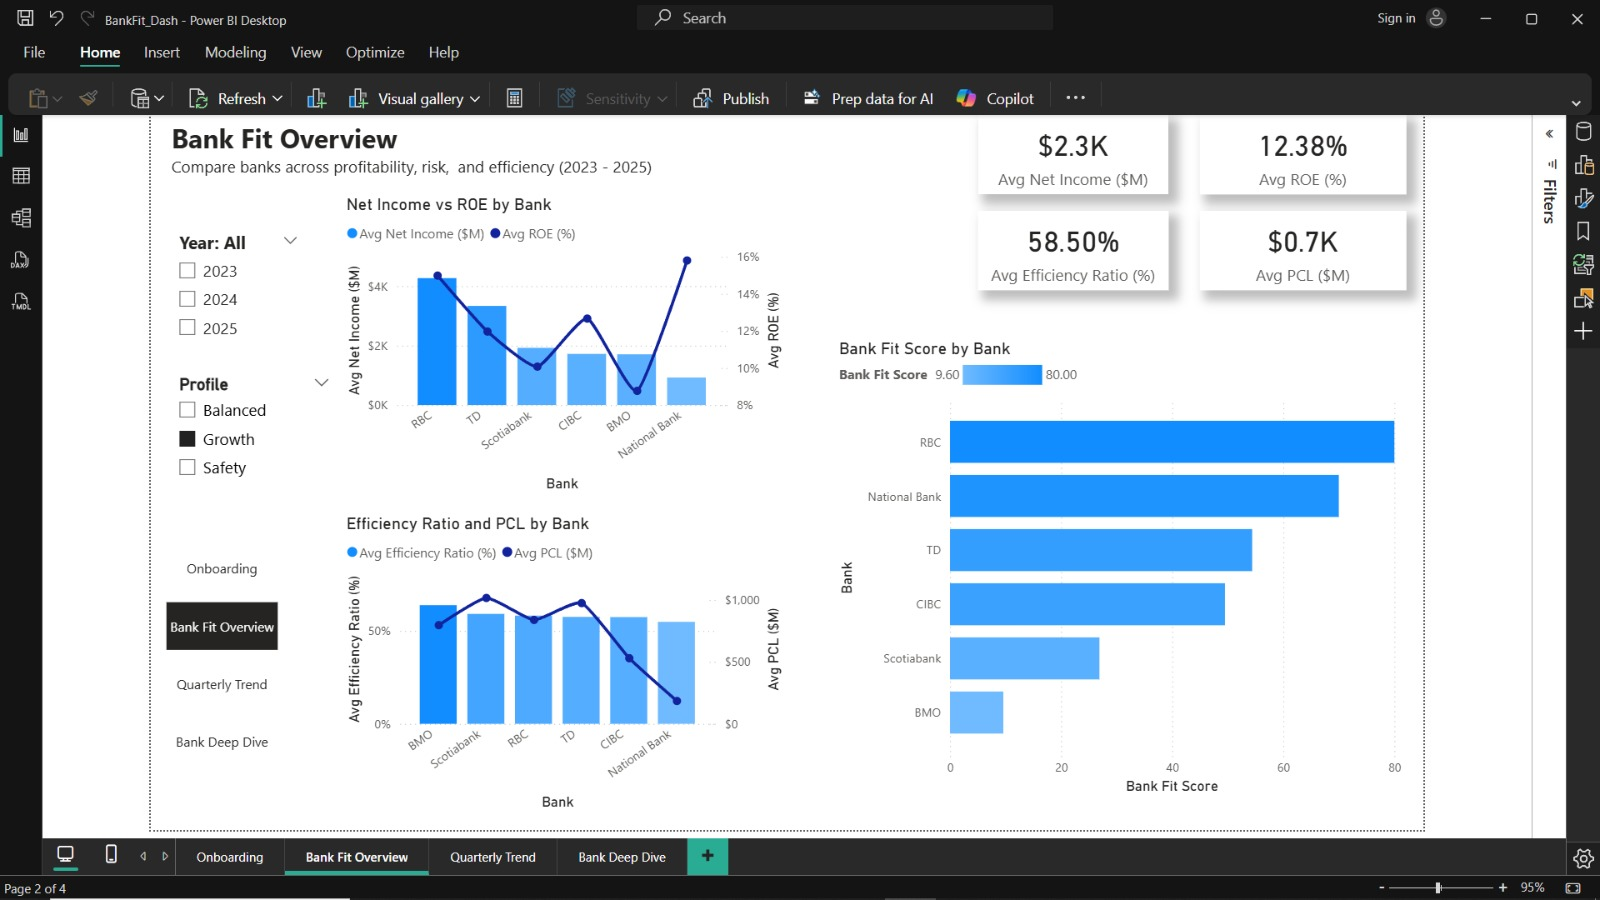

The page's visual inventory and layout, read from the dashboard file:
{"tool":"powerbi","page":{"name":"Bank Fit Overview","canvas":[1280,720],"ordinal":1},"visuals":[{"type":"textbox","box":[16,0,512,80],"z":0},{"type":"slicer","fields":{"Values":["Fact_BankQuarterly.QuarterStartDate.Variation.Date Hierarchy.Year"]},"box":[16,112,144,128],"z":1000,"group":"g1"},{"type":"slicer","fields":{"Values":["BankFitProfiles.Profile"]},"box":[16,256,176,128],"z":2000,"group":"g1"},{"type":"card","fields":{"Values":["Fact_BankQuarterly.Avg Net Income ($M)"]},"box":[832,0,192,80],"z":3000},{"type":"card","fields":{"Values":["Fact_BankQuarterly.Avg ROE (%)"]},"box":[1056,0,208,80],"z":4000},{"type":"card","fields":{"Values":["Fact_BankQuarterly.Avg Efficiency Ratio (%)"]},"box":[832,96,192,80],"z":5000},{"type":"card","fields":{"Values":["Fact_BankQuarterly.Avg PCL ($M)"]},"box":[1056,96,208,80],"z":6000},{"type":"lineClusteredColumnComboChart","title":"Net Income vs ROE by Bank","fields":{"Y":["Fact_BankQuarterly.Avg Net Income ($M)"],"Y2":["Fact_BankQuarterly.Avg ROE (%)"],"Category":["DimBank.Bank"]},"box":[192,80,448,304],"z":7000},{"type":"lineClusteredColumnComboChart","title":"Efficiency Ratio and PCL by Bank","fields":{"Y":["Fact_BankQuarterly.Avg Efficiency Ratio (%)"],"Y2":["Fact_BankQuarterly.Avg PCL ($M)"],"Category":["DimBank.Bank"]},"box":[192,400,448,304],"z":8000},{"type":"barChart","fields":{"Y":["BankFitProfiles.BankFit Score"],"Category":["DimBank.Bank"]},"box":[688,224,576,464],"z":9000},{"type":"pageNavigator","box":[16,432,112,224],"z":11000,"group":"g1"},{"type":"group","id":"g1","title":"Group 1","box":[16,112,176,544],"z":11001}]}

Visuals, with their boxes on the page's 1280x720 design canvas (x1, y1, x2, y2). These are canvas units, not pixel positions in the 1600x900 screenshot, which may show the page scaled, cropped or inside an application window:
textbox: Rect(16, 0, 528, 80)
slicer - Fact_BankQuarterly.QuarterStartDate.Variation.Date Hierarchy.Year: Rect(16, 112, 160, 240)
slicer - BankFitProfiles.Profile: Rect(16, 256, 192, 384)
card - Fact_BankQuarterly.Avg Net Income ($M): Rect(832, 0, 1024, 80)
card - Fact_BankQuarterly.Avg ROE (%): Rect(1056, 0, 1264, 80)
card - Fact_BankQuarterly.Avg Efficiency Ratio (%): Rect(832, 96, 1024, 176)
card - Fact_BankQuarterly.Avg PCL ($M): Rect(1056, 96, 1264, 176)
"Net Income vs ROE by Bank" lineClusteredColumnComboChart: Rect(192, 80, 640, 384)
"Efficiency Ratio and PCL by Bank" lineClusteredColumnComboChart: Rect(192, 400, 640, 704)
barChart - BankFitProfiles.BankFit Score x DimBank.Bank: Rect(688, 224, 1264, 688)
pageNavigator: Rect(16, 432, 128, 656)
"Group 1" group: Rect(16, 112, 192, 656)
